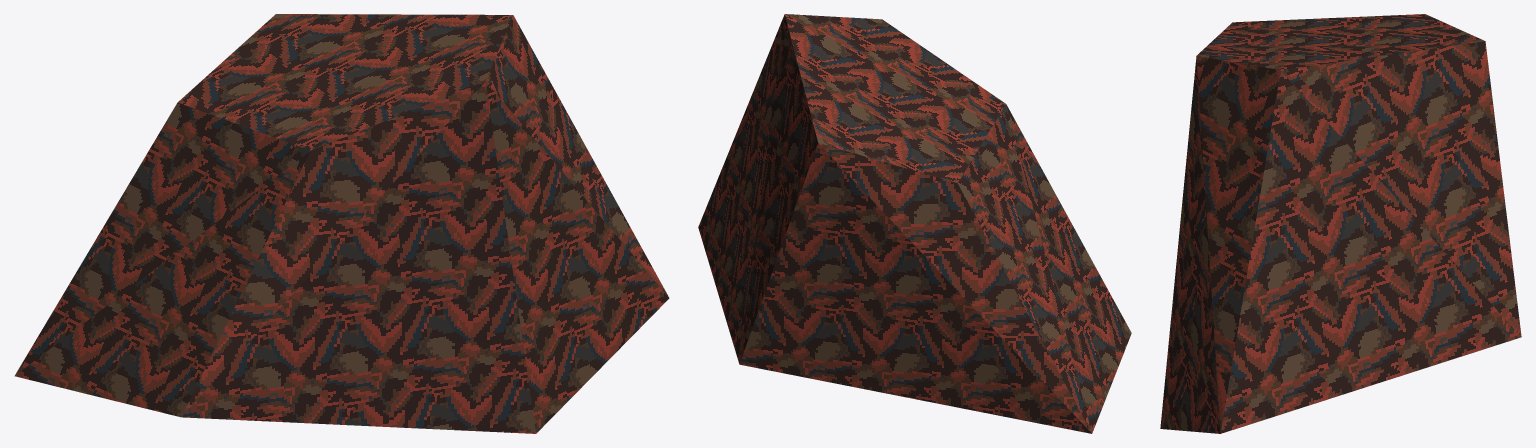
File: Blockade1.fbx
The picture shows the model from 3 angles, left to right: view 1: azimuth 30°, elevation 25°; view 2: azimuth 150°, elevation 25°; view 3: azimuth 270°, elevation 25°; orthographic projection. The views are drawn at different scales.
Visible parts, largest first — view 1: Junk Mesh (1); view 2: Junk Mesh (1); view 3: Junk Mesh (1).
Part boxes in pixels (x1,y1,x2,y2): Junk Mesh (1): (14,14,669,433); Junk Mesh (1): (698,14,1131,433); Junk Mesh (1): (1160,14,1521,433).
Bounding box in the file's own units: 6.75 × 4.31 × 3.75.
